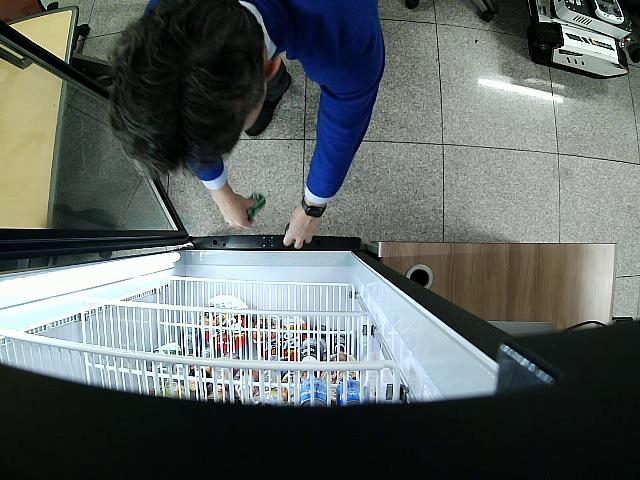00_hand: (210, 191, 255, 230), (284, 210, 321, 249)
12_chilsungCider: (247, 193, 266, 220)
